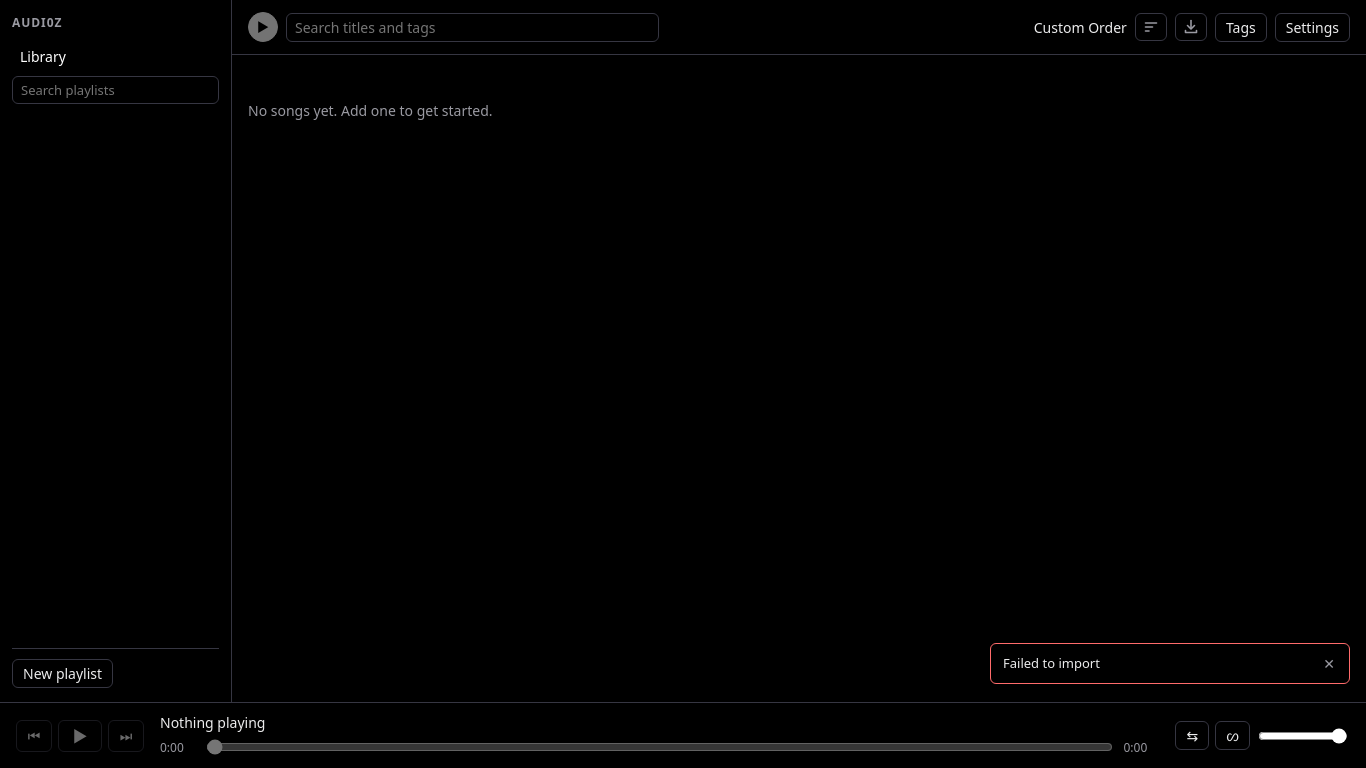
Test: ToastHost expiry › still dismisses on click, well before the timer gets there
Click the button named "Dismiss": (1329, 664) top-left (1321, 654), bottom-right (1337, 673)
Wait 20000 ms
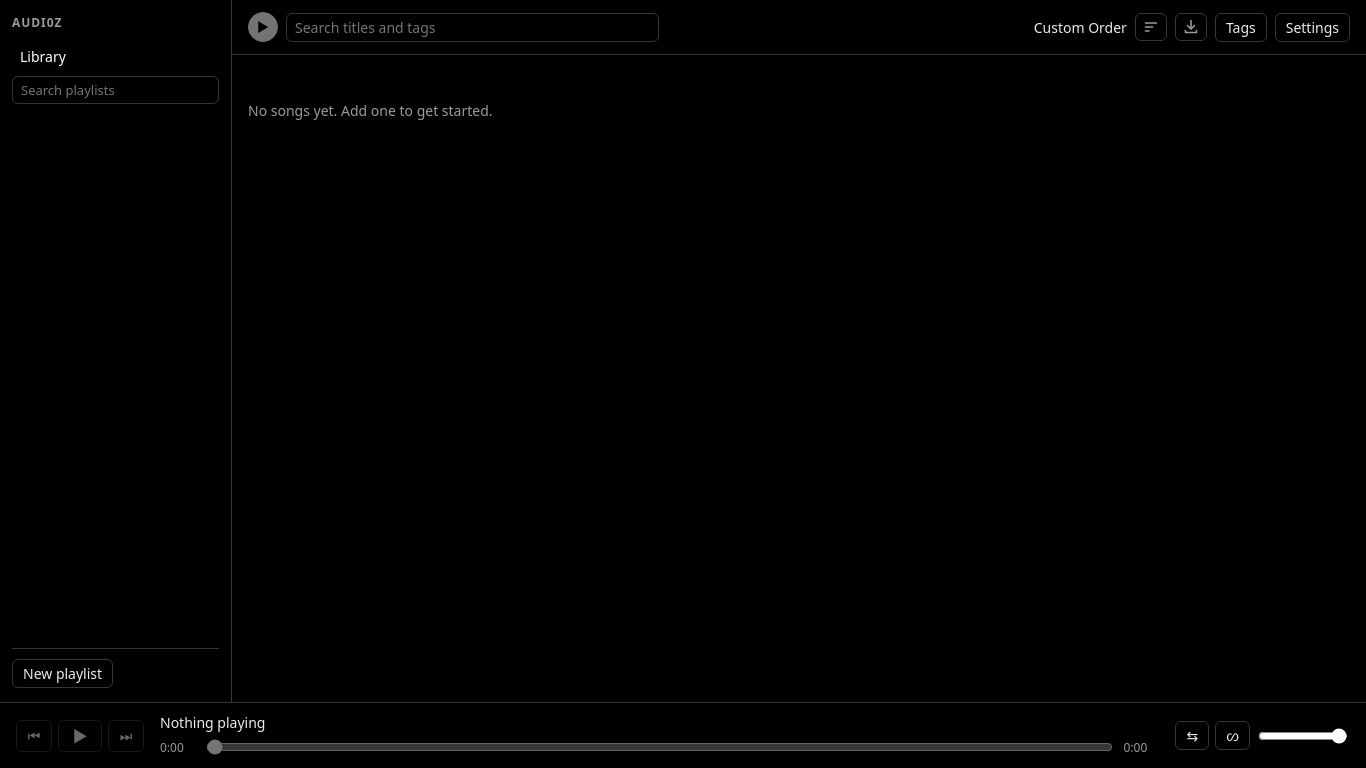
Expected: the message "Failed to import ✕" is gone
